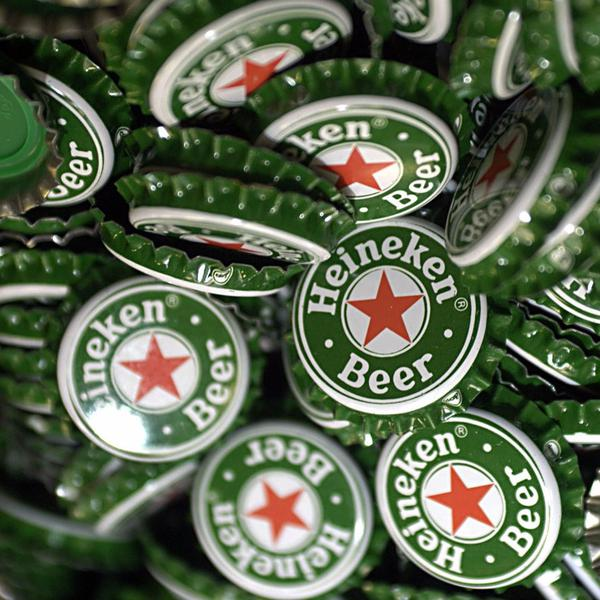heineken: (52, 269, 250, 466), (286, 222, 484, 417), (183, 424, 378, 600), (375, 405, 563, 587)
